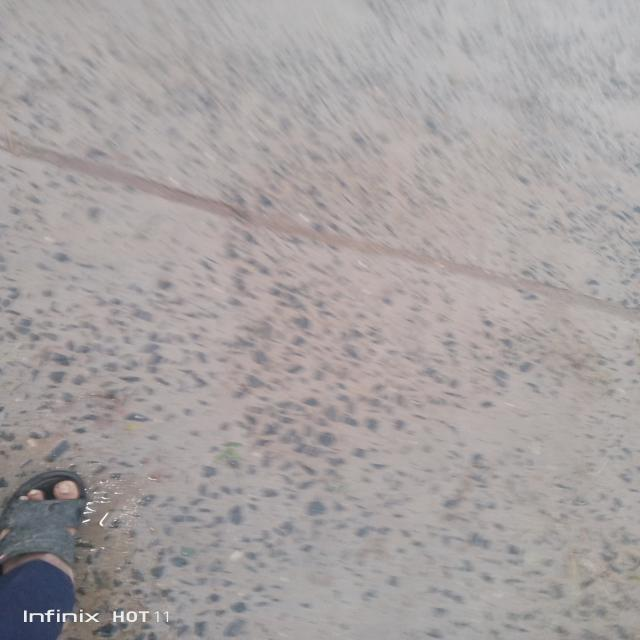cracks: (9, 116, 636, 360)
